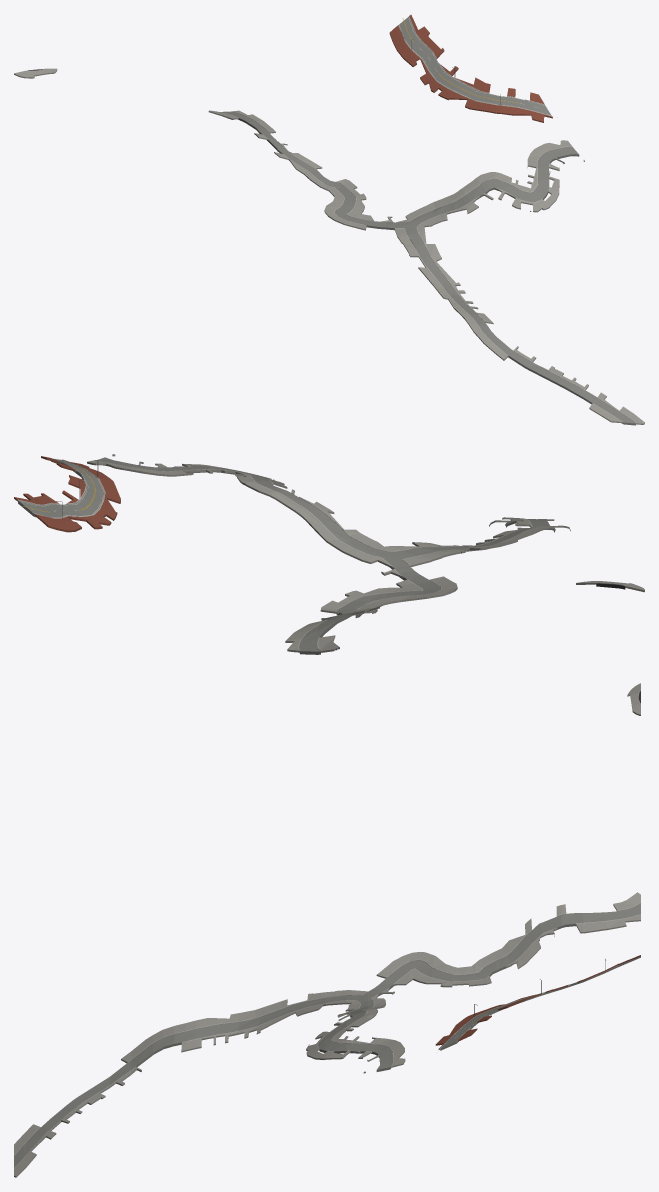
The picture shows the model from 3 angles, top to bottom: view 1: azimuth 30°, elevation 25°; view 2: azimuth 150°, elevation 25°; view 3: azimuth 270°, elevation 25°; orthographic projection. The views are drawn at different scales.
Size of the model in its own units: 288 by 147 by 293.
